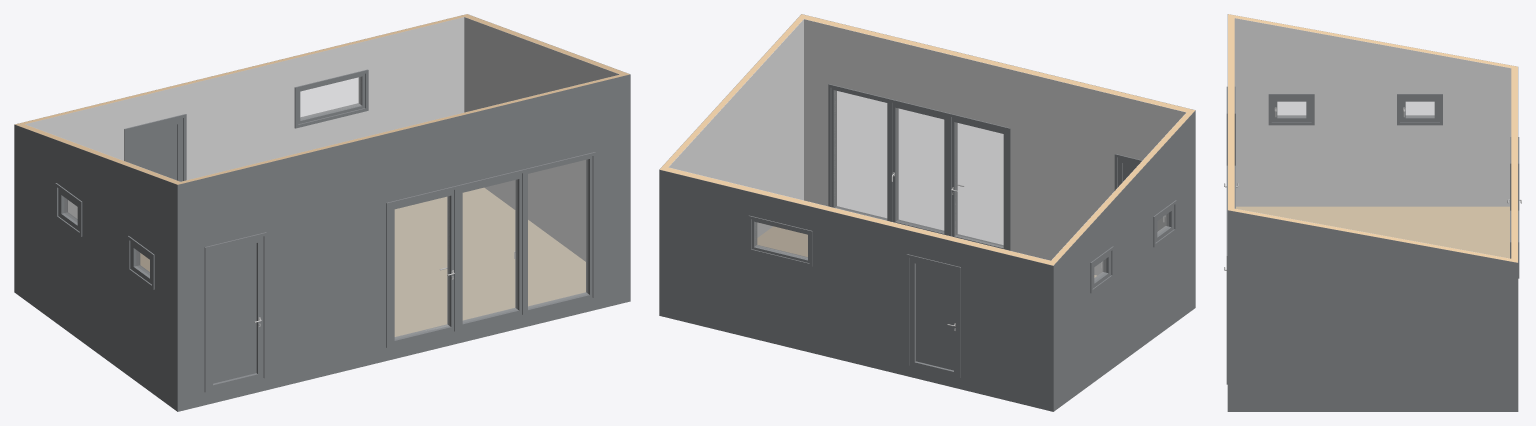
The model's file is valance.gintare@gmail.fbx.
The picture shows the model from 3 angles, left to right: view 1: azimuth 30°, elevation 25°; view 2: azimuth 150°, elevation 25°; view 3: azimuth 270°, elevation 25°; orthographic projection. The views are drawn at different scales.
Visible parts, largest first — view 1: IfcWall/Part:2405523, IfcWall/Part:2405271, IfcWall/Part:2405279, IfcSlab/Part:2405282, IfcWall/Part:2405276, IfcWindow/Langai (Akrusta):1200x2400x120:2476929, IfcDoor/Durys išorinės:1200x2400x120 (kairinės):2473074, IfcWindow/Langai (Akrusta):1200x2400x120 (dešininis):2476682, IfcDoor/Durys išorinės:1000x2400x120 (kairinės) nepermatomos, IfcDoor/Durys išorinės:1000x2100x120 (kairinės) nepermatomos, IfcWindow/Langai (Akrusta):1200x600x120:2477490, IfcWall/Part:2405281 (+5 smaller); view 2: IfcWall/Part:2405280, IfcWall/Part:2405522, IfcWall/Part:2405271, IfcWall/Part:2405276, IfcDoor/Durys išorinės:1200x2400x120 (kairinės):2473074, IfcWindow/Langai (Akrusta):1200x2400x120:2476929, IfcWindow/Langai (Akrusta):1200x2400x120 (dešininis):2476682, IfcDoor/Durys išorinės:1000x2100x120 (kairinės) nepermatomos, IfcWindow/Langai (Akrusta):1200x600x120:2477490, IfcWall/Part:2405281, IfcWall/Part:2405524, IfcWall/Part:2405278 (+5 smaller); view 3: IfcWall/Part:2405277, IfcWall/Part:2405270, IfcSlab/Part:2405282, IfcWindow/Langai (Akrusta):700x500x120 (atverčiamas):2477879, IfcWindow/Langai (Akrusta):700x500x120 (atverčiamas):2477772, IfcWall/Part:2405281, IfcWall/Part:2405524, IfcWall/Part:2405278, IfcWall/Part:2405272, IfcWall/Part:2405280, IfcWindow/Langai (Akrusta):1200x2400x120:2476929, IfcDoor/Durys išorinės:1000x2400x120 (kairinės) nepermatomos (+1 smaller).
Part boxes in pixels (x1,y1,x2,y2): IfcWall/Part:2405523: [177, 74, 630, 411]; IfcWall/Part:2405271: [14, 124, 177, 411]; IfcWall/Part:2405279: [25, 17, 464, 218]; IfcSlab/Part:2405282: [140, 188, 585, 336]; IfcWall/Part:2405276: [464, 17, 619, 261]; IfcWindow/Langai (Akrusta):1200x2400x120:2476929: [522, 152, 595, 314]; IfcDoor/Durys išorinės:1200x2400x120 (kairinės):2473074: [386, 185, 459, 347]; IfcWindow/Langai (Akrusta):1200x2400x120 (dešininis):2476682: [454, 168, 527, 331]; IfcDoor/Durys išorinės:1000x2400x120 (kairinės) nepermatomos: [204, 232, 266, 392]; IfcDoor/Durys išorinės:1000x2100x120 (kairinės) nepermatomos: [124, 114, 186, 181]; IfcWindow/Langai (Akrusta):1200x600x120:2477490: [294, 69, 368, 128]; IfcWall/Part:2405281: [15, 14, 470, 125]; IfcWall/Part:2405280: [659, 169, 1053, 411]; IfcWall/Part:2405522: [804, 19, 1186, 275]; IfcWall/Part:2405271: [1053, 110, 1195, 411]; IfcWall/Part:2405276: [668, 19, 803, 237]; IfcDoor/Durys išorinės:1200x2400x120 (kairinės):2473074: [946, 113, 1010, 250]; IfcWindow/Langai (Akrusta):1200x2400x120:2476929: [828, 84, 892, 221]; IfcWindow/Langai (Akrusta):1200x2400x120 (dešininis):2476682: [887, 99, 951, 236]; IfcDoor/Durys išorinės:1000x2100x120 (kairinės) nepermatomos: [906, 254, 960, 378]; IfcWindow/Langai (Akrusta):1200x600x120:2477490: [748, 215, 812, 266]; IfcWall/Part:2405281: [660, 166, 1055, 265]; IfcWall/Part:2405524: [804, 15, 1194, 113]; IfcWall/Part:2405278: [663, 14, 806, 167]; IfcWall/Part:2405277: [1227, 210, 1517, 411]; IfcWall/Part:2405270: [1234, 18, 1511, 206]; IfcSlab/Part:2405282: [1236, 206, 1509, 258]; IfcWindow/Langai (Akrusta):700x500x120 (atverčiamas):2477879: [1268, 94, 1314, 125]; IfcWindow/Langai (Akrusta):700x500x120 (atverčiamas):2477772: [1397, 94, 1442, 125]; IfcWall/Part:2405281: [1511, 65, 1517, 262]; IfcWall/Part:2405524: [1228, 14, 1234, 208]; IfcWall/Part:2405278: [1228, 207, 1511, 261]; IfcWall/Part:2405272: [1234, 15, 1511, 67]; IfcWall/Part:2405280: [1518, 67, 1518, 411]; IfcWindow/Langai (Akrusta):1200x2400x120:2476929: [1226, 224, 1227, 384]; IfcDoor/Durys išorinės:1000x2400x120 (kairinės) nepermatomos: [1226, 86, 1235, 165].
Bounding box in the file's own units: 802 × 383 × 513.
